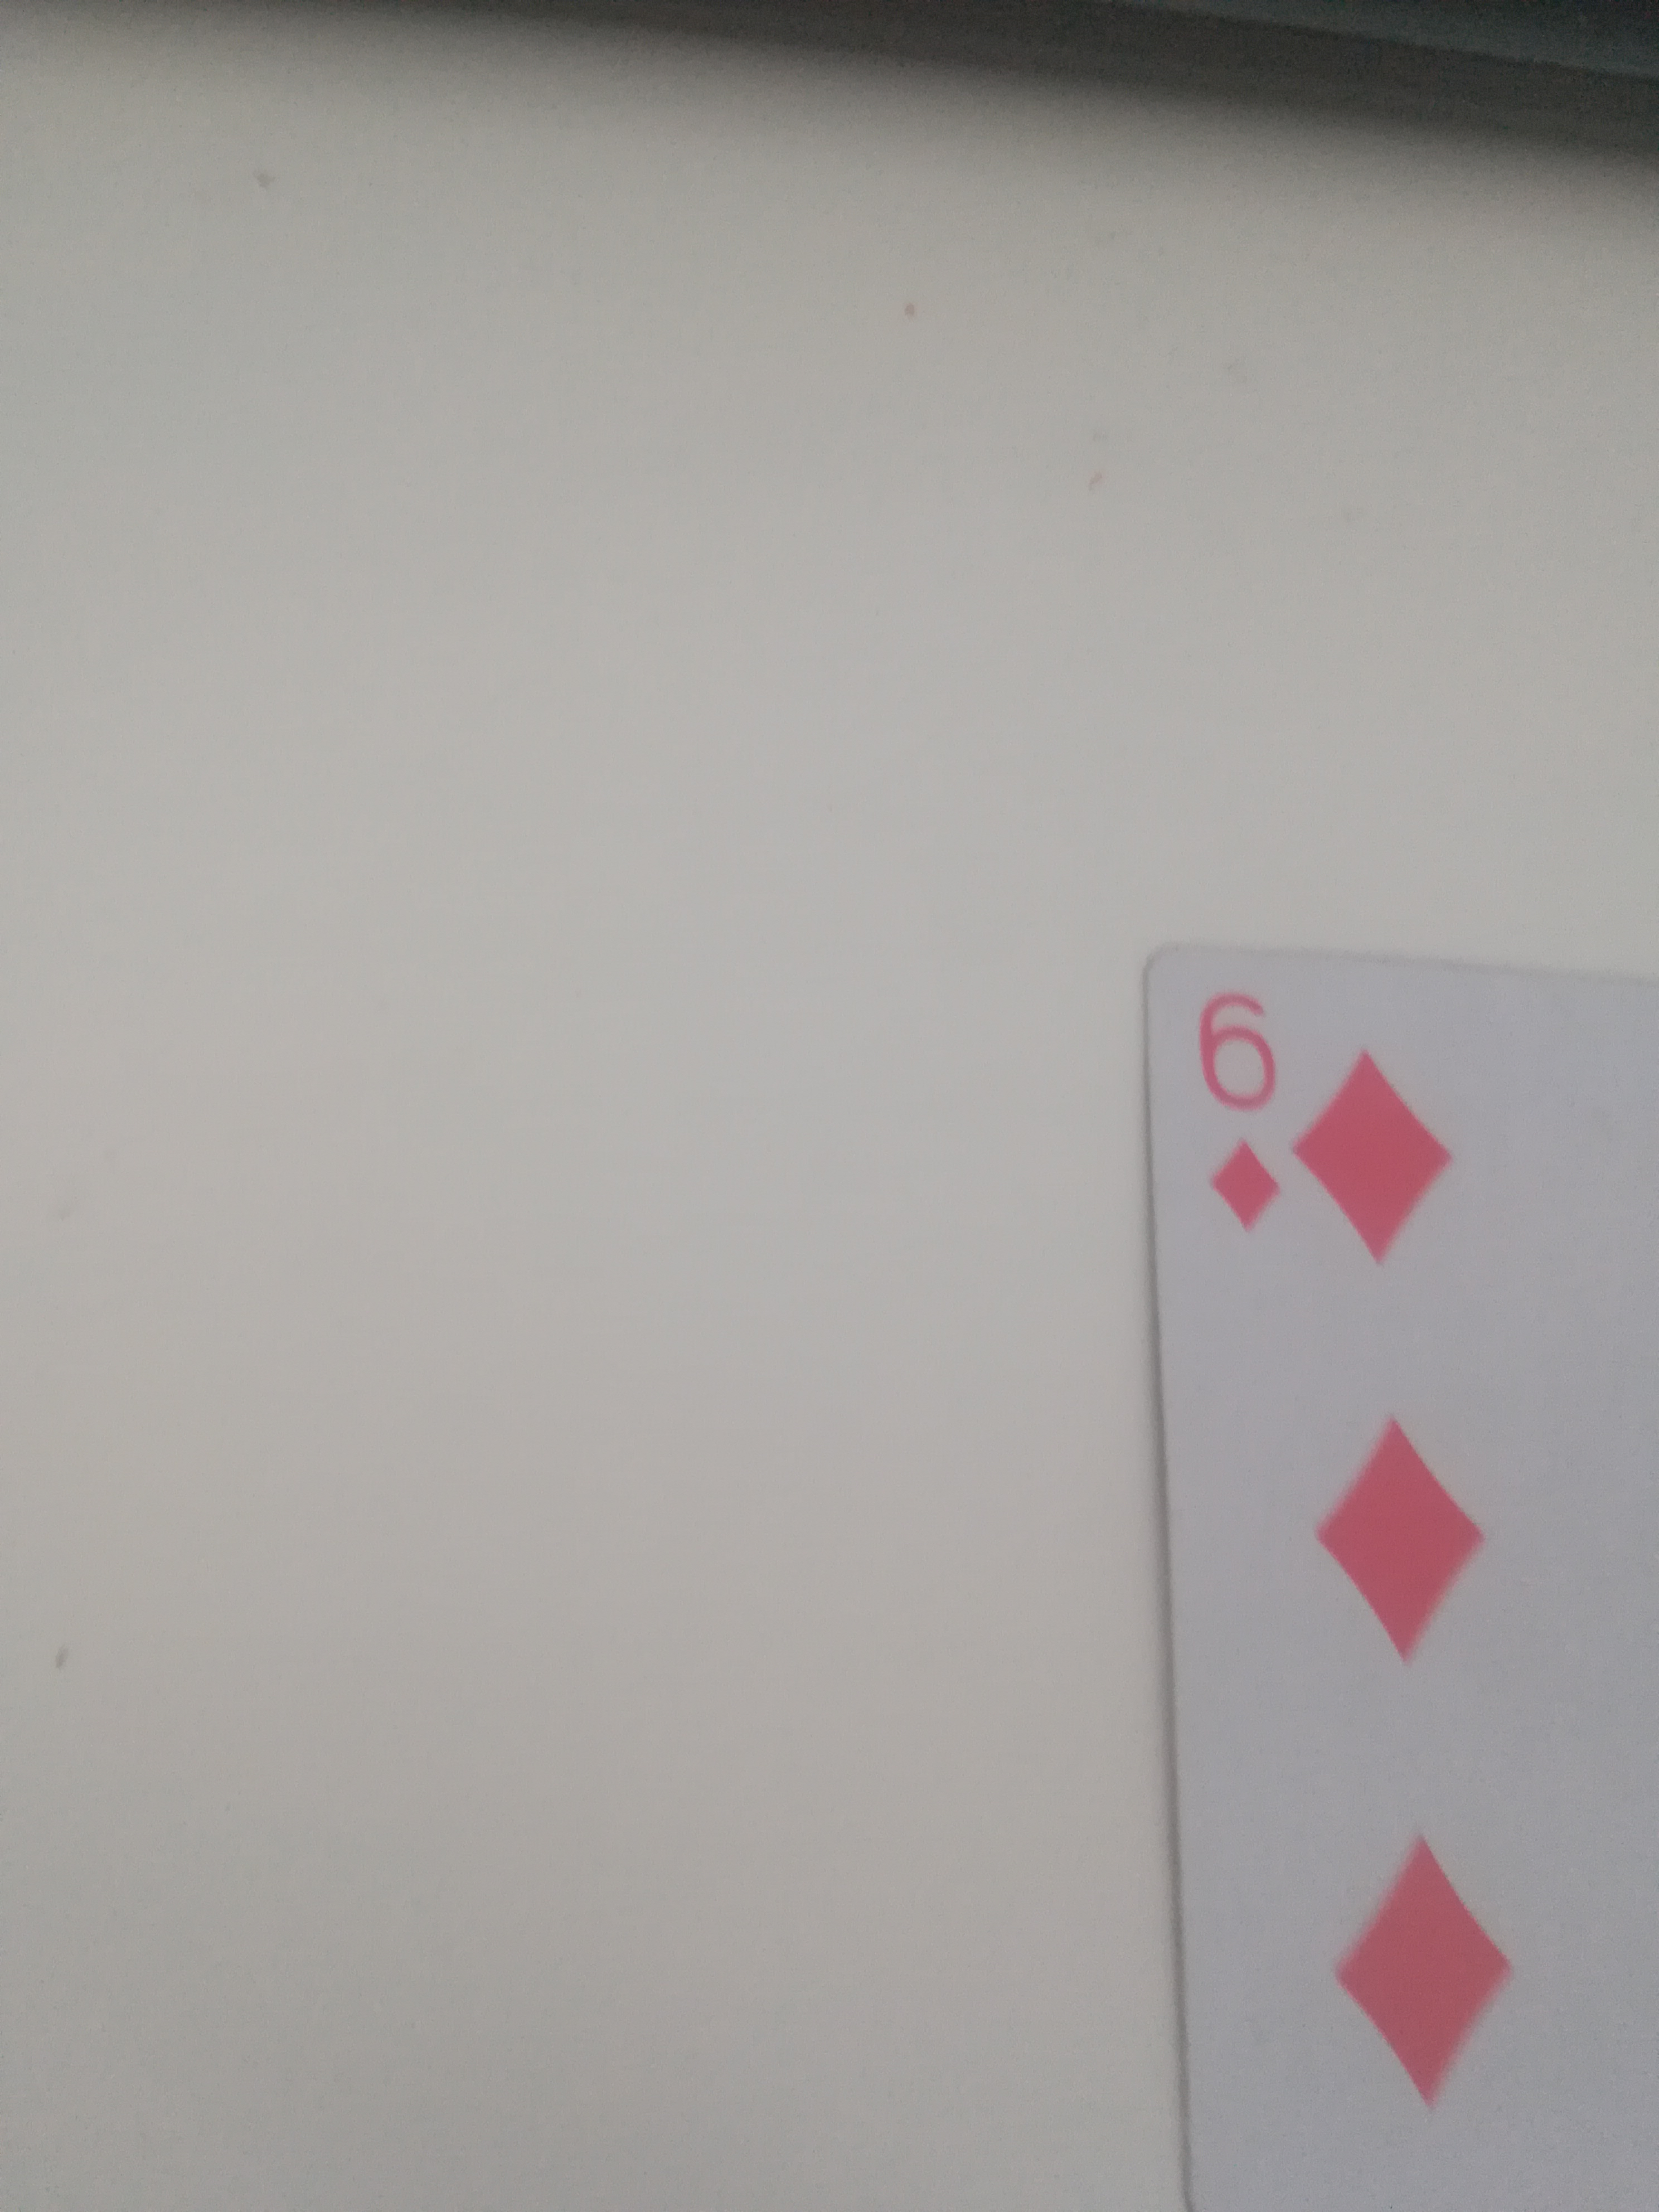6D: (1127, 932, 1654, 2212)
